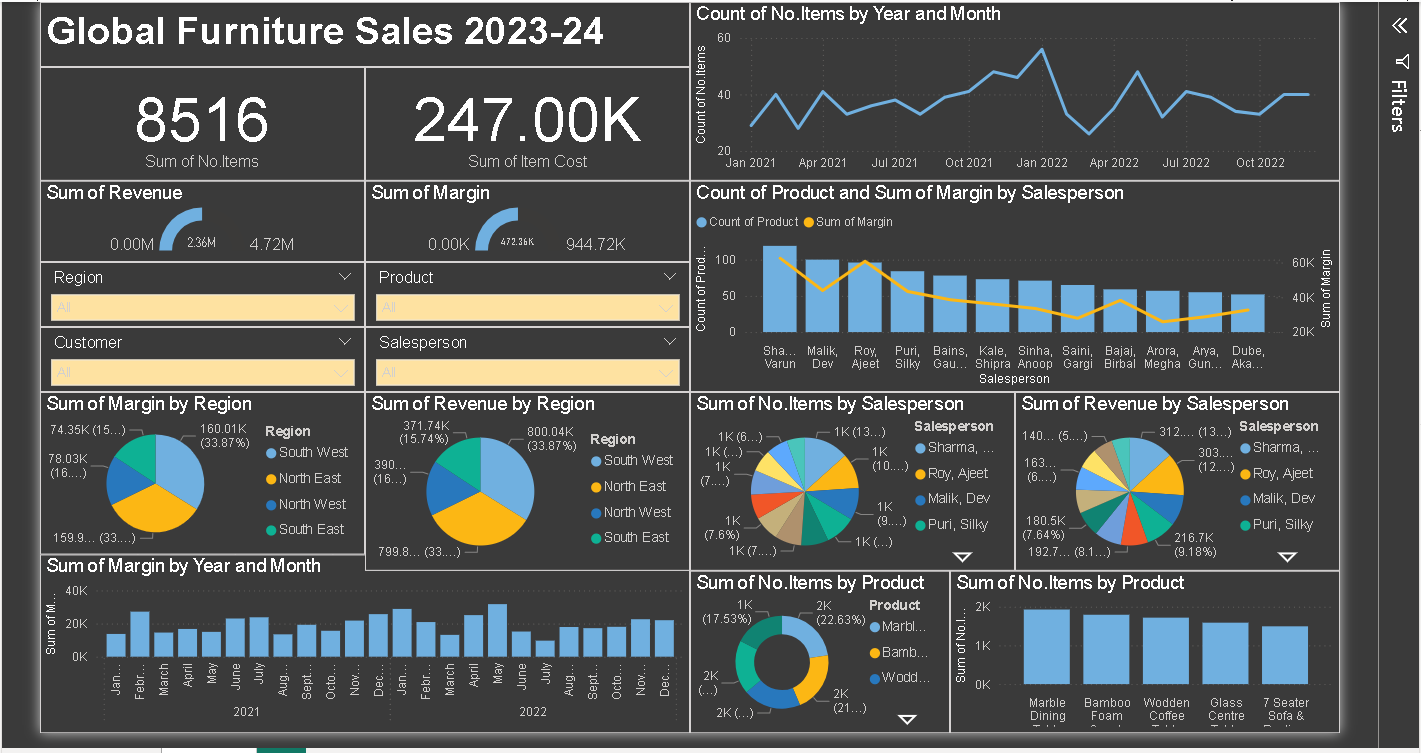

Layout of this report page (visuals, bound fields, positions):
{"tool":"powerbi","page":{"name":"Page 1","canvas":[1280,720],"ordinal":0},"visuals":[{"type":"textbox","box":[0,0,640,64],"z":0},{"type":"columnChart","fields":{"Y":["Raw_Data.Margin"],"Category":["Raw_Data.Date.Variation.Date Hierarchy.Year","Raw_Data.Date.Variation.Date Hierarchy.Month"]},"box":[0,544,640,176],"z":1000},{"type":"donutChart","fields":{"Y":["Raw_Data.No.Items"],"Category":["Raw_Data.Product"]},"box":[640,560,256,160],"z":2000},{"type":"columnChart","fields":{"Category":["Raw_Data.Product"],"Y":["Raw_Data.No.Items"]},"box":[896,560,384,160],"z":3000},{"type":"pieChart","fields":{"Y":["Raw_Data.Margin"],"Category":["Raw_Data.Region"]},"box":[0,384,320,160],"z":4000},{"type":"pieChart","fields":{"Y":["Raw_Data.Revenue"],"Category":["Raw_Data.Region"]},"box":[320,384,320,176],"z":5000},{"type":"pieChart","fields":{"Y":["Raw_Data.No.Items"],"Category":["Raw_Data.Salesperson"]},"box":[640,384,320,176],"z":6000},{"type":"pieChart","fields":{"Y":["Raw_Data.Revenue"],"Category":["Raw_Data.Salesperson"]},"box":[960,384,320,176],"z":7000},{"type":"lineClusteredColumnComboChart","fields":{"Y":["Raw_Data.Product"],"Category":["Raw_Data.Salesperson"],"Y2":["Raw_Data.Margin"]},"box":[640,176,640,208],"z":8000},{"type":"lineChart","fields":{"Y":["Raw_Data.No.Items"],"Category":["Raw_Data.Date.Variation.Date Hierarchy.Year","Raw_Data.Date.Variation.Date Hierarchy.Month"]},"box":[640,0,640,176],"z":9000},{"type":"slicer","fields":{"Values":["Raw_Data.Customer"]},"box":[0,320,320,64],"z":10000},{"type":"slicer","fields":{"Values":["Raw_Data.Salesperson"]},"box":[320,320,320,64],"z":11000},{"type":"slicer","fields":{"Values":["Raw_Data.Product"]},"box":[320,256,320,64],"z":12000},{"type":"slicer","fields":{"Values":["Raw_Data.Region"]},"box":[0,256,320,64],"z":13000},{"type":"gauge","fields":{"Y":["Raw_Data.Revenue"]},"box":[0,176,320,80],"z":14000},{"type":"gauge","fields":{"Y":["Raw_Data.Margin"]},"box":[320,176,320,80],"z":15000},{"type":"card","fields":{"Values":["Raw_Data.Item Cost"]},"box":[320,64,320,112],"z":16000},{"type":"card","fields":{"Values":["Raw_Data.No.Items"]},"box":[0,64,320,112],"z":17000}]}

Visuals, with their boxes in screenshot pixels (x1, y1, x2, y2):
textbox: <box>30,0,688,62</box>
columnChart - Raw_Data.Margin x Raw_Data.Date.Variation.Date Hierarchy.Year: <box>30,556,688,737</box>
donutChart - Raw_Data.No.Items x Raw_Data.Product: <box>688,572,952,737</box>
columnChart - Raw_Data.Product x Raw_Data.No.Items: <box>952,572,1347,737</box>
pieChart - Raw_Data.Margin x Raw_Data.Region: <box>30,391,359,556</box>
pieChart - Raw_Data.Revenue x Raw_Data.Region: <box>359,391,688,572</box>
pieChart - Raw_Data.No.Items x Raw_Data.Salesperson: <box>688,391,1017,572</box>
pieChart - Raw_Data.Revenue x Raw_Data.Salesperson: <box>1017,391,1347,572</box>
lineClusteredColumnComboChart - Raw_Data.Product x Raw_Data.Salesperson: <box>688,177,1347,391</box>
lineChart - Raw_Data.No.Items x Raw_Data.Date.Variation.Date Hierarchy.Year: <box>688,0,1347,177</box>
slicer - Raw_Data.Customer: <box>30,326,359,391</box>
slicer - Raw_Data.Salesperson: <box>359,326,688,391</box>
slicer - Raw_Data.Product: <box>359,260,688,326</box>
slicer - Raw_Data.Region: <box>30,260,359,326</box>
gauge - Raw_Data.Revenue: <box>30,177,359,260</box>
gauge - Raw_Data.Margin: <box>359,177,688,260</box>
card - Raw_Data.Item Cost: <box>359,62,688,177</box>
card - Raw_Data.No.Items: <box>30,62,359,177</box>
